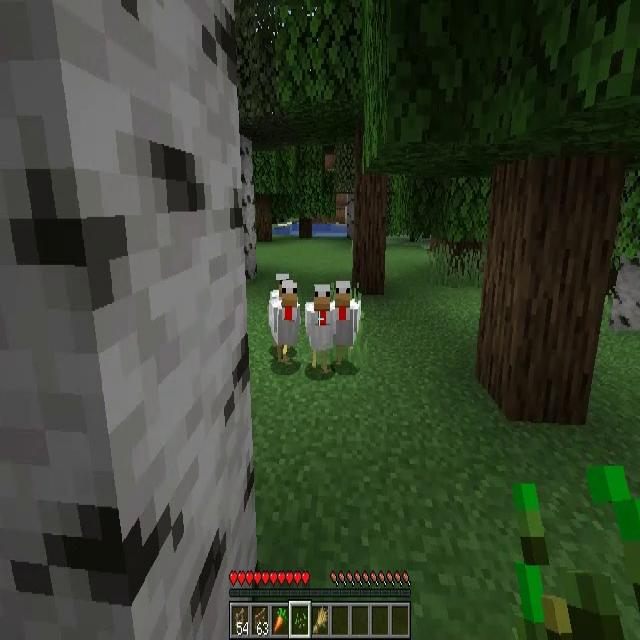duck: (269, 280, 300, 362), (304, 284, 332, 371), (333, 282, 362, 366)
